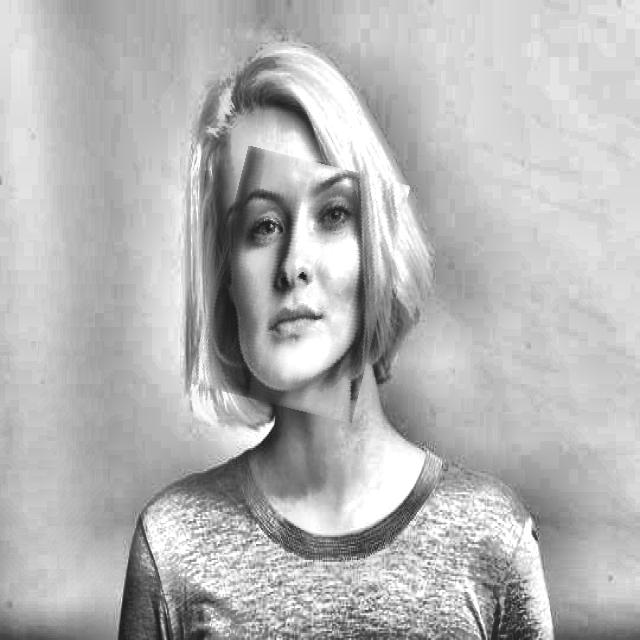neutral: (203, 154, 396, 415)
